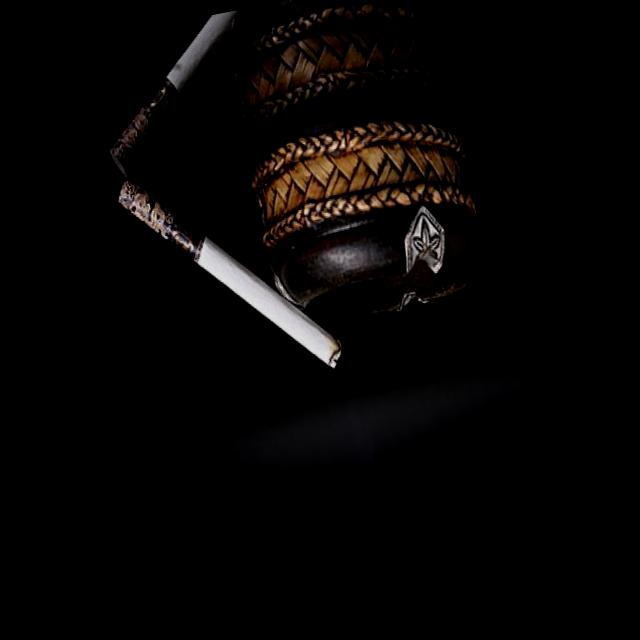smoke: (110, 140, 352, 414), (72, 4, 302, 177)
